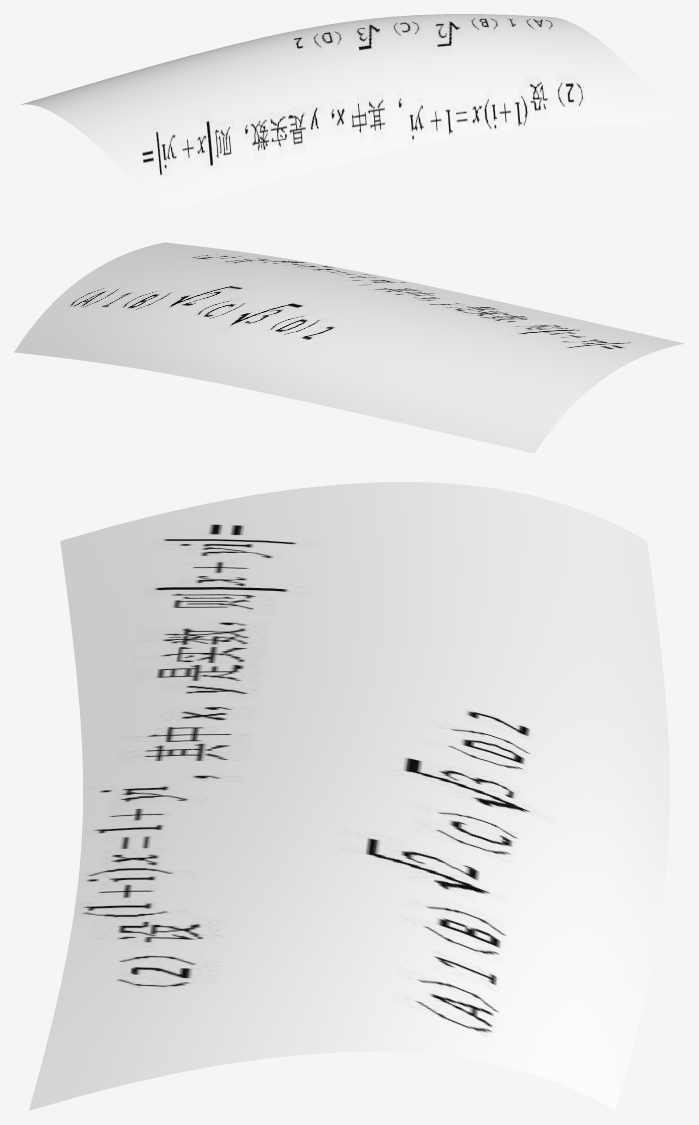
The model's file is math2.fbx.
3 renders of one model, top to bottom at view 1: azimuth 30°, elevation 25°; view 2: azimuth 150°, elevation 25°; view 3: azimuth 270°, elevation 25°, orthographic. The views are drawn at different scales.
Parts seen in each view (by area): view 1: 曲面片; view 2: 曲面片; view 3: 曲面片.
Boxes of the visible parts, <box> form: 曲面片: <box>21,14,684,213</box>; 曲面片: <box>14,242,684,453</box>; 曲面片: <box>29,482,669,1110</box>.
Size of the model in its own units: 418 by 50.32 by 223.
Materials: 1 (1 with a texture image).
